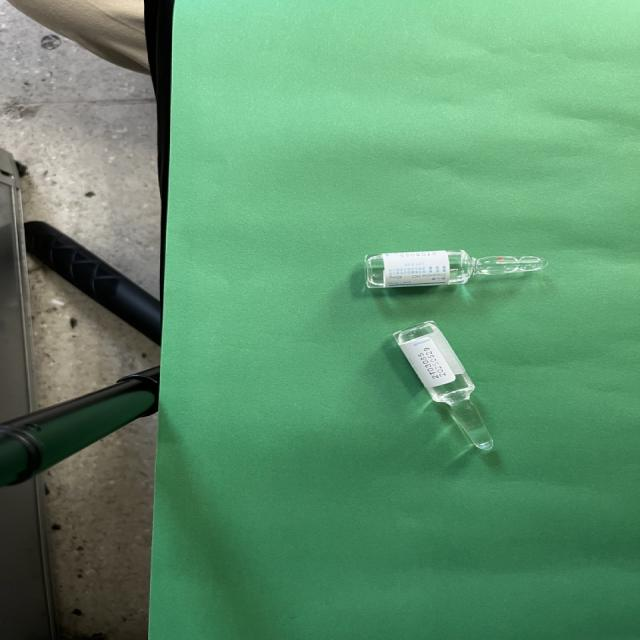Ampoules: (393, 321, 493, 450), (365, 250, 547, 288)
